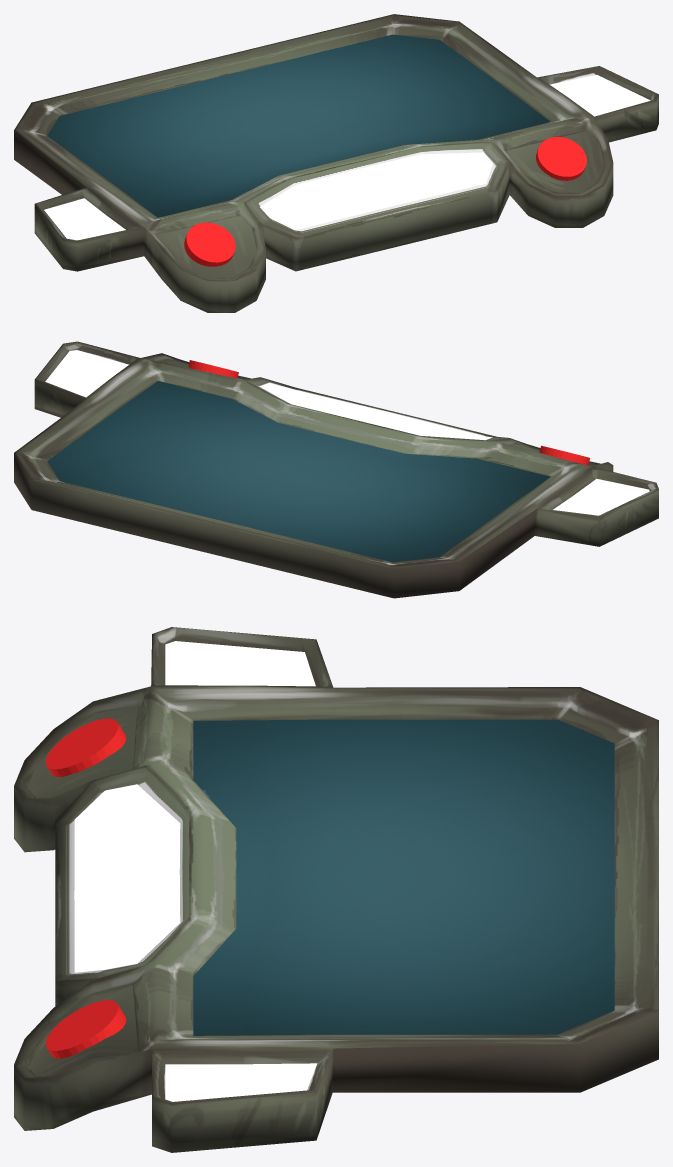
The model's file is diceboard_V2.glb.
3 views of the same model, one above another, from view 1: azimuth 30°, elevation 25°; view 2: azimuth 150°, elevation 25°; view 3: azimuth 270°, elevation 25° (orthographic). The views are drawn at different scales.
Visible parts, largest first — view 1: Cube; view 2: Cube; view 3: Cube.
Part boxes in pixels (x1,y1,x2,y2): Cube: [14, 14, 658, 312]; Cube: [14, 341, 658, 598]; Cube: [14, 627, 658, 1152].
Bounding box in the file's own units: 4.72 × 0.5217 × 2.69.
3 materials, 3 textured.
